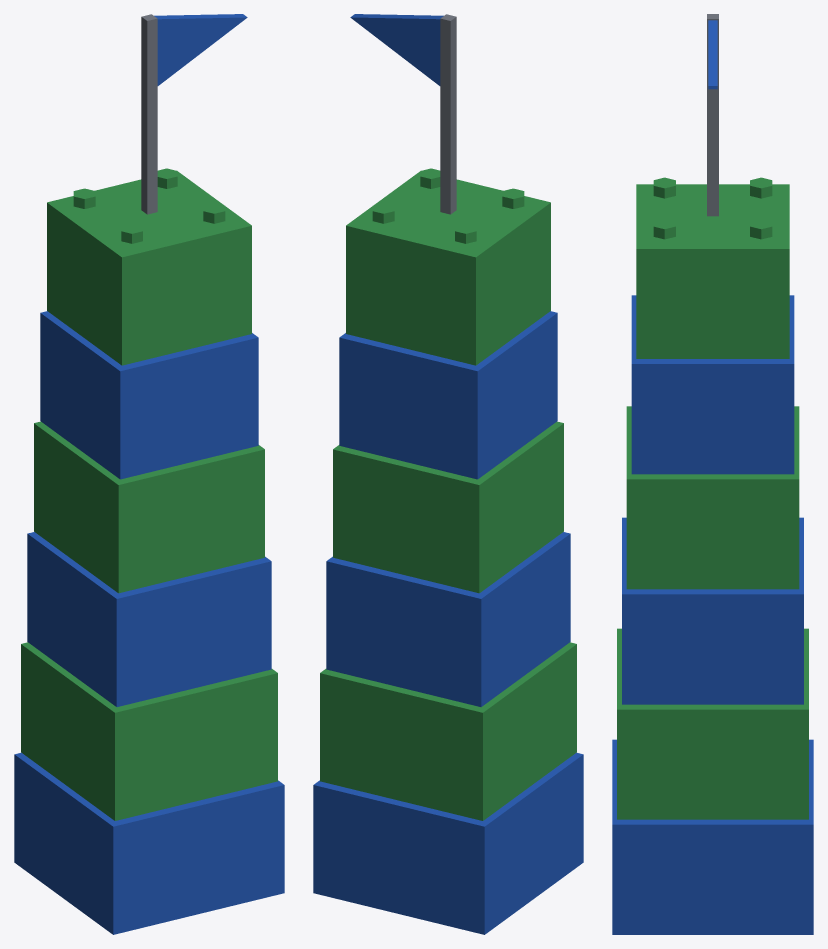
The model's file is towerB.glb.
3 renders of one model, left to right at view 1: azimuth 30°, elevation 25°; view 2: azimuth 150°, elevation 25°; view 3: azimuth 270°, elevation 25°, orthographic.
Visible parts, largest first — view 1: toyRoom-towerB; view 2: toyRoom-towerB; view 3: toyRoom-towerB.
Part boxes in pixels (x1=…): toyRoom-towerB: x1=14, y1=14, x2=284, y2=934; toyRoom-towerB: x1=313, y1=14, x2=583, y2=934; toyRoom-towerB: x1=612, y1=14, x2=813, y2=934.
Size of the model in its own units: 0.265 by 1.2 by 0.25.
